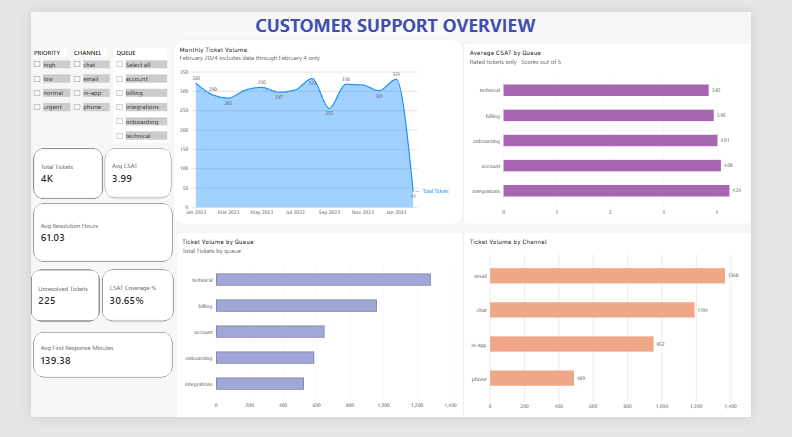

The dashboard page shown, as its layout file describes it:
{"tool":"powerbi","page":{"name":"Support Overview","canvas":[1920,1080],"ordinal":0},"visuals":[{"type":"cardVisual","fields":{"Data":["support_tickets.Total Tickets"]},"box":[0,367.1,198.6,135.7],"z":0},{"type":"cardVisual","fields":{"Data":["support_tickets.Unresolved Tickets"]},"box":[8.6,678.6,280,124.3],"z":1000},{"type":"cardVisual","fields":{"Data":["support_tickets.Avg First Response Minutes"]},"box":[0,951.4,370,128.3],"z":2000},{"type":"cardVisual","fields":{"Data":["support_tickets.Avg Resolution Hours"]},"box":[5.7,508.6,381.4,155.7],"z":3000},{"type":"cardVisual","fields":{"Data":["support_tickets.Avg CSAT"]},"box":[198.6,370,188.6,132.9],"z":4000},{"type":"cardVisual","fields":{"Data":["support_tickets.CSAT Coverage %"]},"box":[8.6,814.3,274.3,125.7],"z":5000},{"type":"clusteredBarChart","title":"Ticket Volume by Queue","fields":{"Category":["support_tickets.queue"],"Y":["support_tickets.Total Tickets"]},"box":[387,585,766,495],"z":6000},{"type":"clusteredBarChart","title":"Ticket Volume by Channel","fields":{"Category":["support_tickets.channel"],"Y":["support_tickets.Total Tickets"]},"box":[1152.5,585,767.5,495],"z":7000},{"type":"lineChart","title":"Monthly Ticket Volume.","fields":{"Category":["support_tickets.Opened Month"],"Y":["support_tickets.Total Tickets"]},"box":[400,72.9,752.9,492.9],"z":8000},{"type":"clusteredBarChart","title":"Average CSAT by Queue","fields":{"Category":["support_tickets.queue"],"Y":["support_tickets.Avg CSAT"]},"box":[1152.5,82.5,767.5,482.5],"z":9000},{"type":"clusteredBarChart","box":[2706.4,260.9,237,250],"z":10000},{"type":"clusteredBarChart","box":[2825.5,203.6,237,250],"z":11000},{"type":"slicer","fields":{"Values":["support_tickets.priority"]},"box":[0,98,105,242],"z":12000},{"type":"slicer","fields":{"Values":["support_tickets.queue"]},"box":[220,97,143,253],"z":13000},{"type":"slicer","fields":{"Values":["support_tickets.channel"]},"box":[107,98,103,242],"z":14000},{"type":"textbox","box":[22.5,0,1897.5,70],"z":15000}]}

Visuals, with their boxes in screenshot pixels (x1, y1, x2, y2), scaled from the page's 1920x1080 canvas onto the 792x437 screenshot:
cardVisual - support_tickets.Total Tickets: [0,149,82,203]
cardVisual - support_tickets.Unresolved Tickets: [4,275,119,325]
cardVisual - support_tickets.Avg First Response Minutes: [0,385,153,436]
cardVisual - support_tickets.Avg Resolution Hours: [2,206,160,269]
cardVisual - support_tickets.Avg CSAT: [82,150,160,203]
cardVisual - support_tickets.CSAT Coverage %: [4,329,117,380]
"Ticket Volume by Queue" clusteredBarChart: [160,237,476,436]
"Ticket Volume by Channel" clusteredBarChart: [475,237,791,436]
"Monthly Ticket Volume." lineChart: [165,29,476,229]
"Average CSAT by Queue" clusteredBarChart: [475,33,791,229]
slicer - support_tickets.priority: [0,40,43,138]
slicer - support_tickets.queue: [91,39,150,142]
slicer - support_tickets.channel: [44,40,87,138]
textbox: [9,0,791,28]
